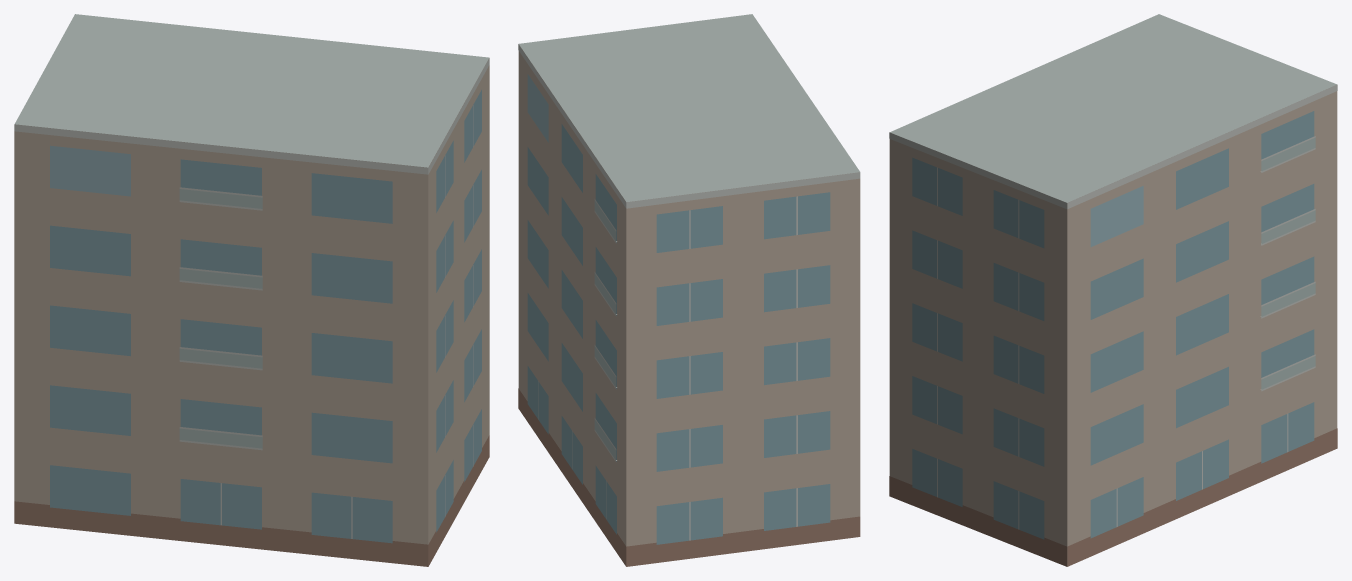
The model's file is survey-upis-32883270.glb.
3 renders of one model, left to right at view 1: azimuth 30°, elevation 25°; view 2: azimuth 150°, elevation 25°; view 3: azimuth 270°, elevation 25°, orthographic. The views are drawn at different scales.
Parts seen in each view (by area): view 1: survey-upis-32883270.tmp; view 2: survey-upis-32883270.tmp; view 3: survey-upis-32883270.tmp.
Boxes of the visible parts, x1=… form: survey-upis-32883270.tmp: x1=14, y1=14, x2=489, y2=566; survey-upis-32883270.tmp: x1=518, y1=14, x2=860, y2=566; survey-upis-32883270.tmp: x1=889, y1=14, x2=1337, y2=566.
Bounding box in the file's own units: 15.37 × 13.8 × 15.4.
